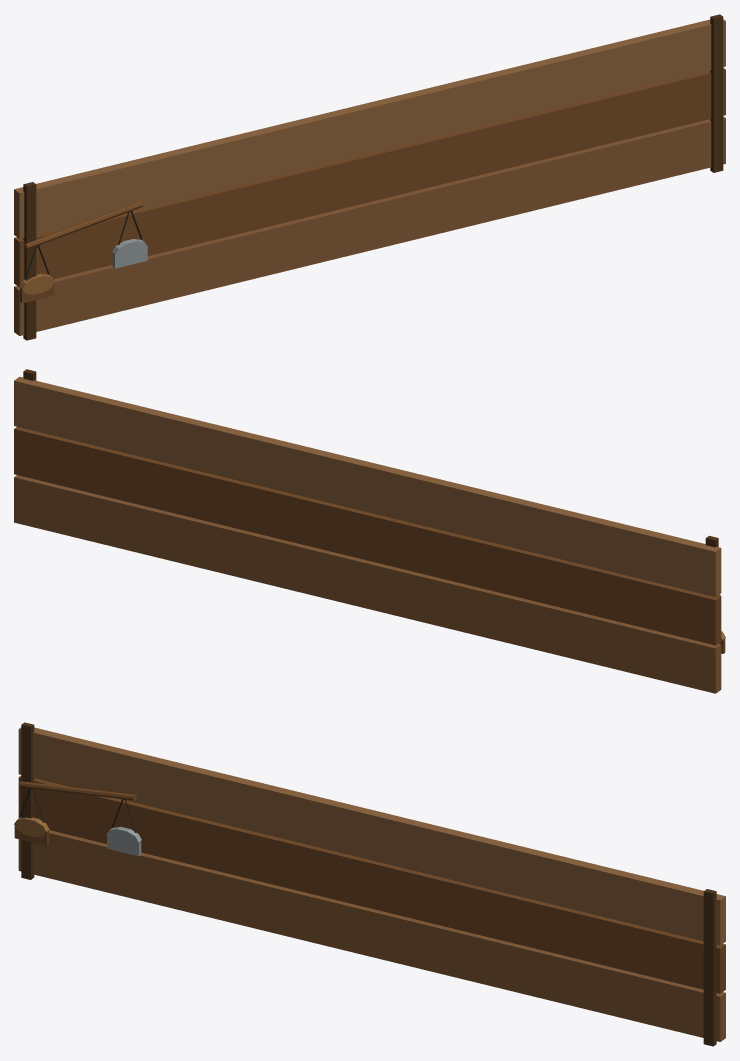
File: bang_pho_ganh_chu_sau_40.glb
3 views of the same model, one above another, from view 1: azimuth 30°, elevation 25°; view 2: azimuth 150°, elevation 25°; view 3: azimuth 330°, elevation 25° (orthographic).
Visible parts, largest first — view 1: bang_pho_ganh_chu_sau_40; view 2: bang_pho_ganh_chu_sau_40; view 3: bang_pho_ganh_chu_sau_40.
Part boxes in pixels (x1,y1,x2,y2): bang_pho_ganh_chu_sau_40: [14, 14, 725, 340]; bang_pho_ganh_chu_sau_40: [14, 369, 725, 693]; bang_pho_ganh_chu_sau_40: [14, 722, 725, 1046].
Bounding box in the file's own units: 3.65 × 0.76 × 0.085.
